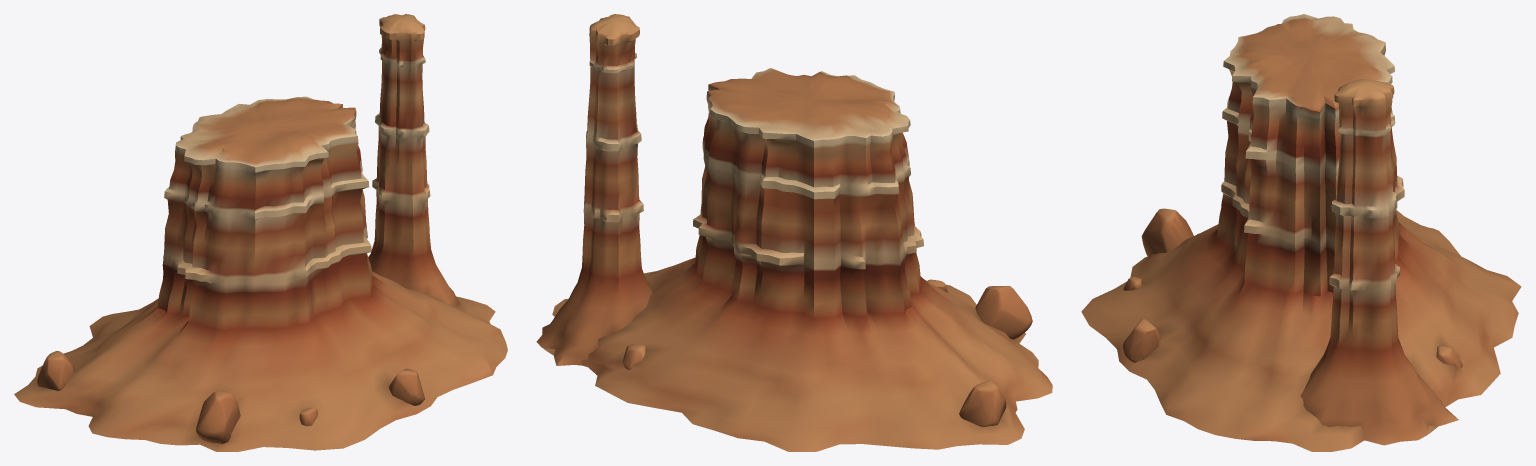
The model's file is rock_mesa.glb.
The picture shows the model from 3 angles, left to right: view 1: azimuth 30°, elevation 25°; view 2: azimuth 150°, elevation 25°; view 3: azimuth 270°, elevation 25°; orthographic projection. The views are drawn at different scales.
Visible parts, largest first — view 1: rock_mesa; view 2: rock_mesa; view 3: rock_mesa.
Boxes of the visible parts, bbox=[...] form: rock_mesa: bbox=[14, 14, 507, 451]; rock_mesa: bbox=[536, 14, 1052, 451]; rock_mesa: bbox=[1081, 14, 1521, 451].
Size of the model in its own units: 37.08 by 23.1 by 27.9.
